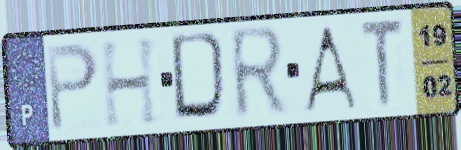A: (299, 23, 360, 114)
D: (168, 29, 234, 124)
H: (98, 34, 162, 131)
P: (43, 39, 102, 135)
R: (226, 22, 290, 126)
T: (358, 15, 407, 112)
